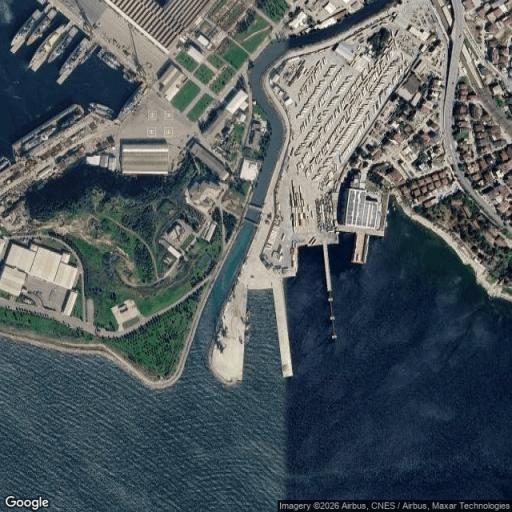ship: (13, 104, 84, 156), (57, 39, 94, 84), (29, 25, 64, 71), (11, 10, 41, 53), (48, 26, 78, 63), (117, 84, 147, 121), (27, 8, 56, 45), (98, 48, 120, 69), (90, 103, 114, 119), (241, 310, 251, 343), (85, 44, 98, 59), (124, 68, 137, 82), (0, 157, 11, 171)
